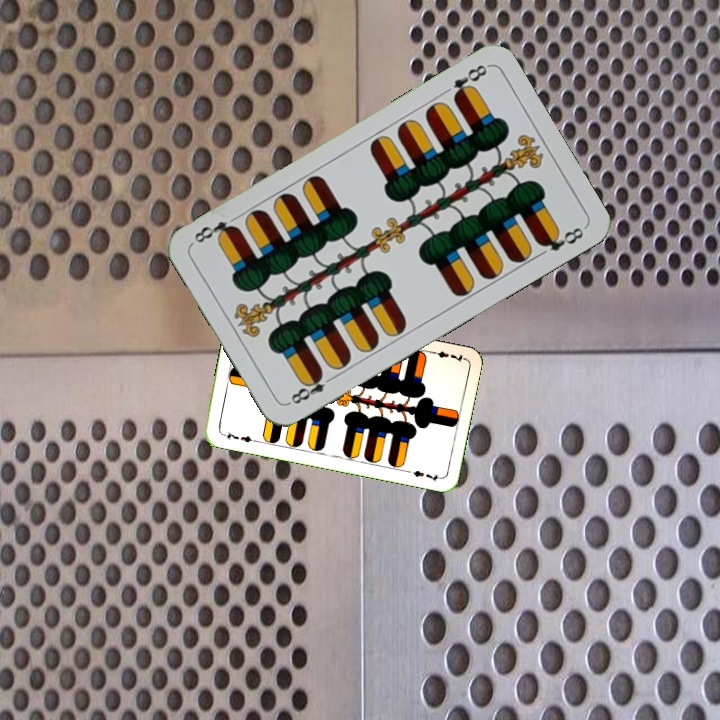E7: (218, 427, 258, 445), (426, 347, 466, 365)
E8: (437, 60, 491, 103), (284, 368, 338, 407)
